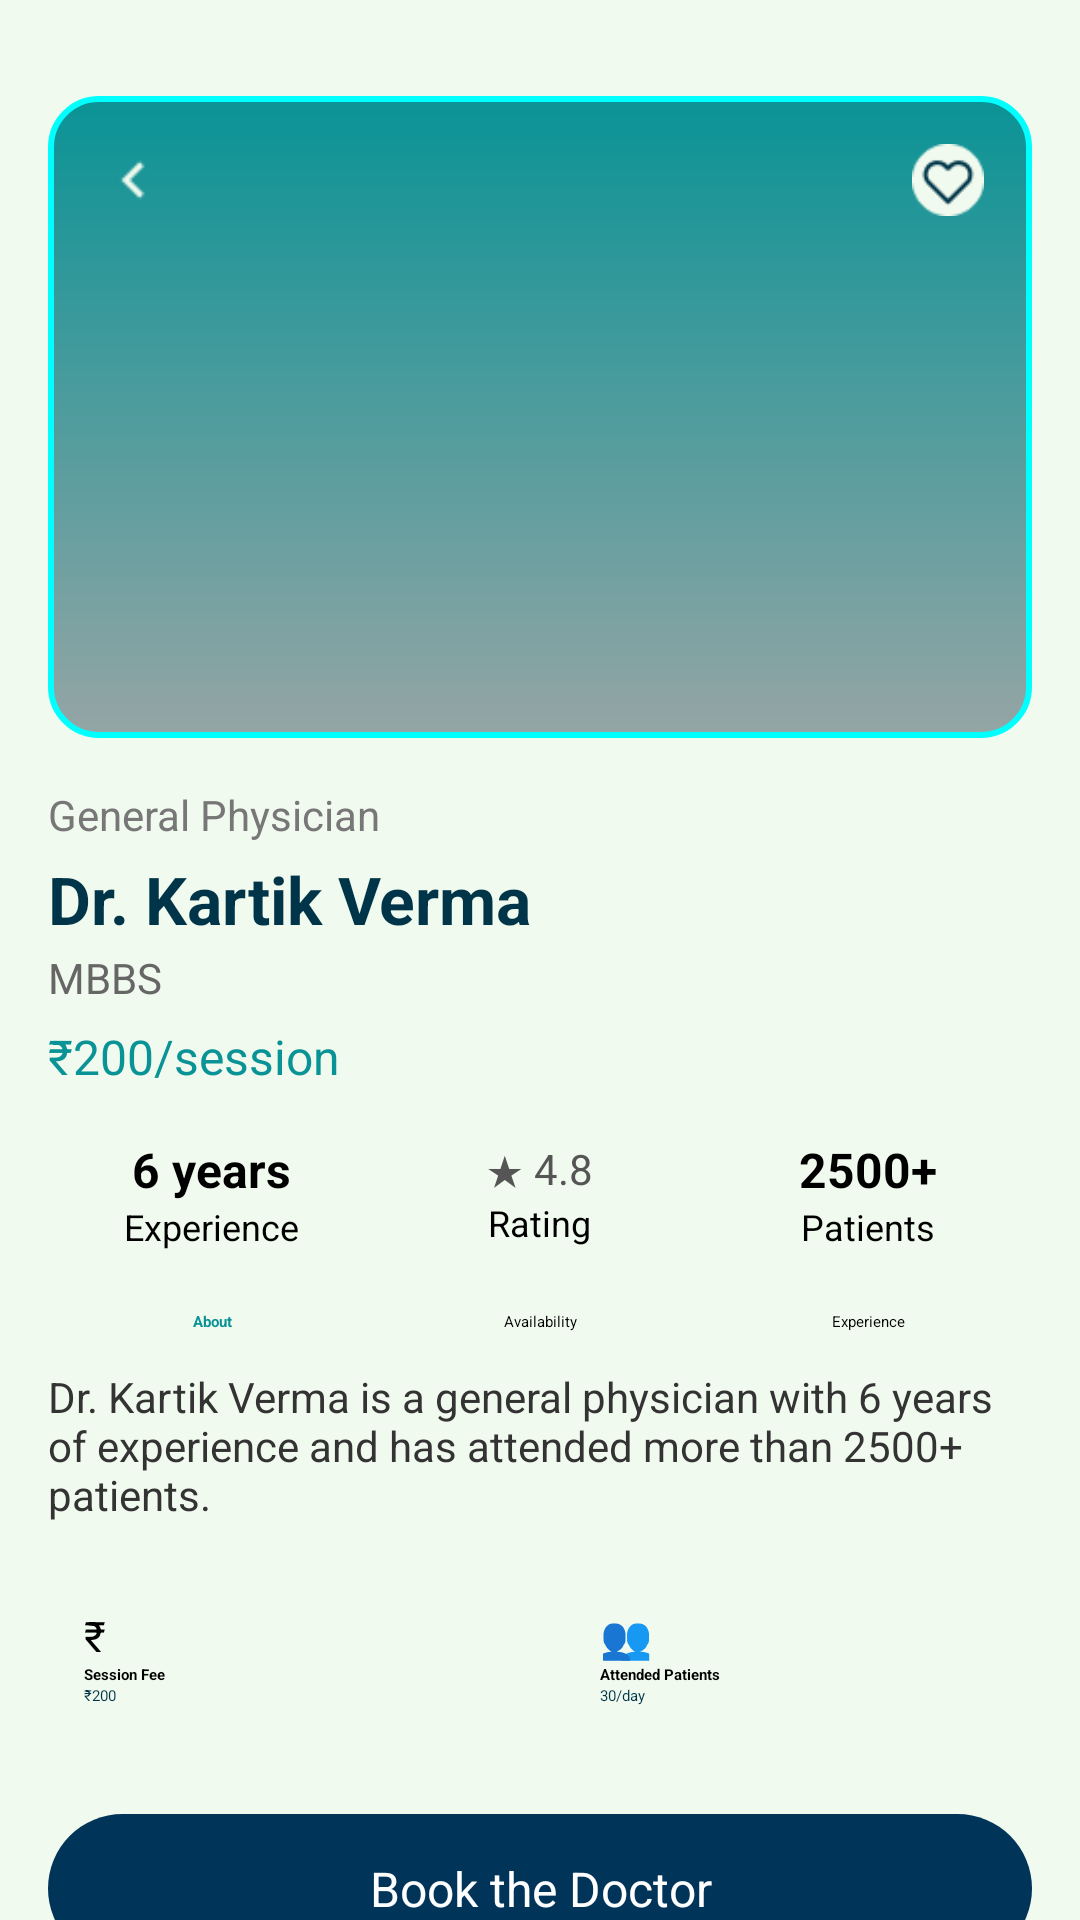

Point at icon controls on the screen. Image size 1080w x 1920h, points as [x,y].
Back: [133,180]
Like: [948,180]
